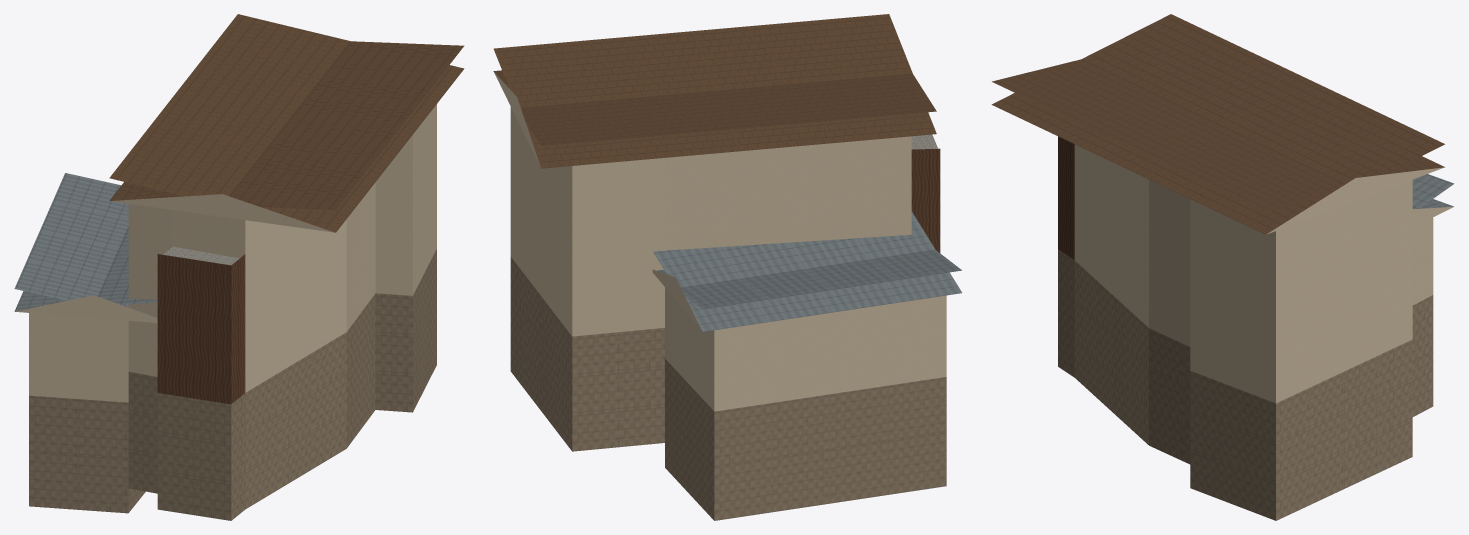
File: bld_c22_-49_541.gltf
3 renders of one model, left to right at view 1: azimuth 30°, elevation 25°; view 2: azimuth 150°, elevation 25°; view 3: azimuth 270°, elevation 25°, orthographic. The views are drawn at different scales.
Parts seen in each view (by area): view 1: bld_c22_-49_541; view 2: bld_c22_-49_541; view 3: bld_c22_-49_541.
Part boxes in pixels (x1=…): bld_c22_-49_541: x1=14, y1=14, x2=464, y2=520; bld_c22_-49_541: x1=493, y1=14, x2=961, y2=520; bld_c22_-49_541: x1=991, y1=14, x2=1454, y2=520.
Size of the model in its own units: 21.18 by 15 by 18.23.
Materials: 8 (8 with a texture image).
